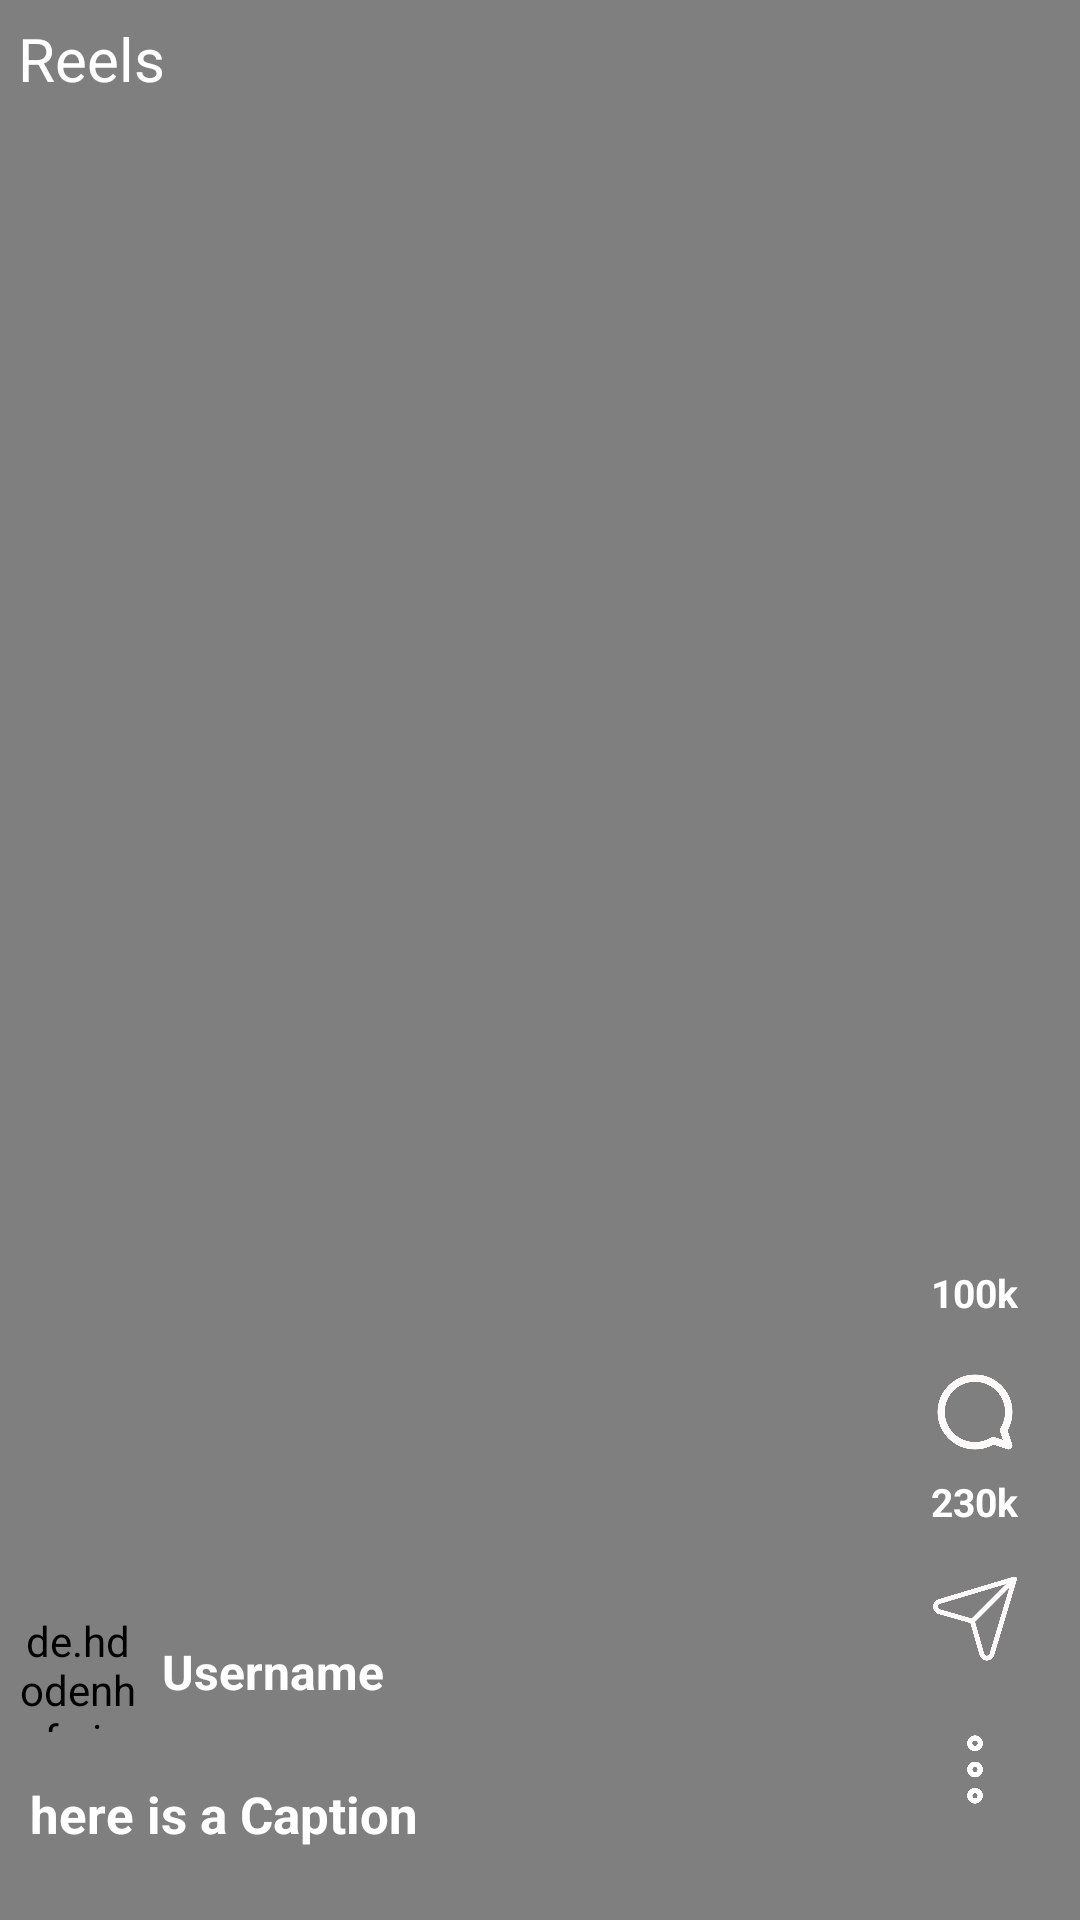

Icon bounding boxes for this 1080px×1920px phone screenshot, format bbox(x1, y1, x2, y2):
reel comment: bbox(937, 1374, 1013, 1450)
reel send: bbox(933, 1577, 1017, 1661)
